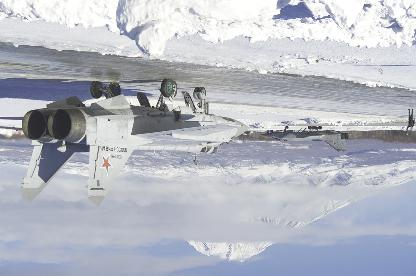Mig31: (0, 77, 253, 208), (258, 126, 352, 152)
